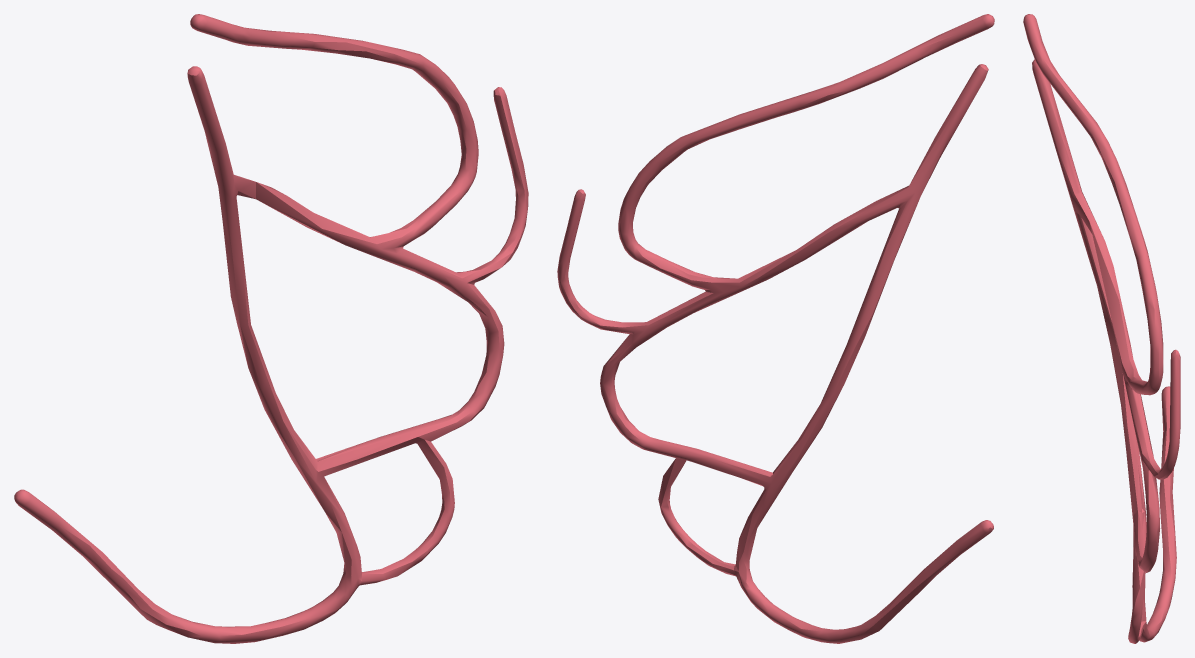
The model's file is fma14830_fj3638.glb.
3 views of the same model, side by side, from view 1: azimuth 30°, elevation 25°; view 2: azimuth 150°, elevation 25°; view 3: azimuth 270°, elevation 25° (orthographic). The views are drawn at different scales.
Visible parts, largest first — view 1: FMA14830_FJ3638; view 2: FMA14830_FJ3638; view 3: FMA14830_FJ3638.
Part boxes in pixels (bbox=[...]): FMA14830_FJ3638: bbox=[14, 14, 528, 643]; FMA14830_FJ3638: bbox=[557, 14, 994, 643]; FMA14830_FJ3638: bbox=[1023, 14, 1180, 643].
Size of the model in its own units: 0.0662 by 0.0881 by 0.0224.
